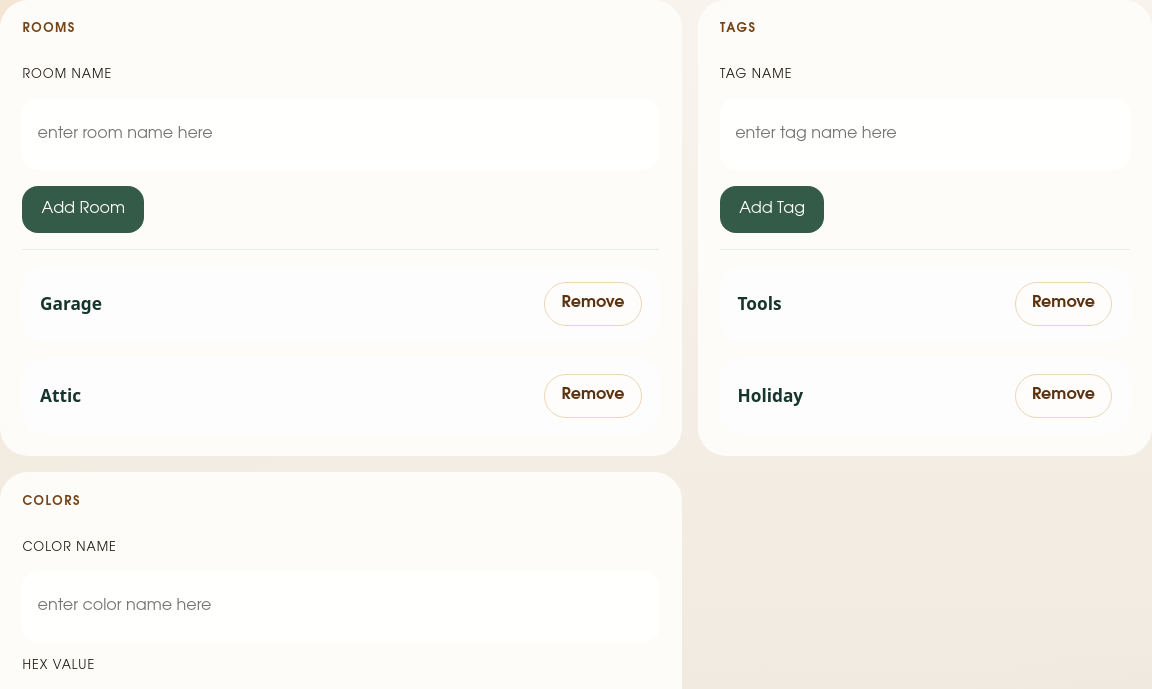
Test: rooms management route › removes a room from the list
Check: the text "Garage" is shown, box [40,292,102,315]
Click the button "Remove" in the row of "Garage" at (593,304), box [544,282,642,326]
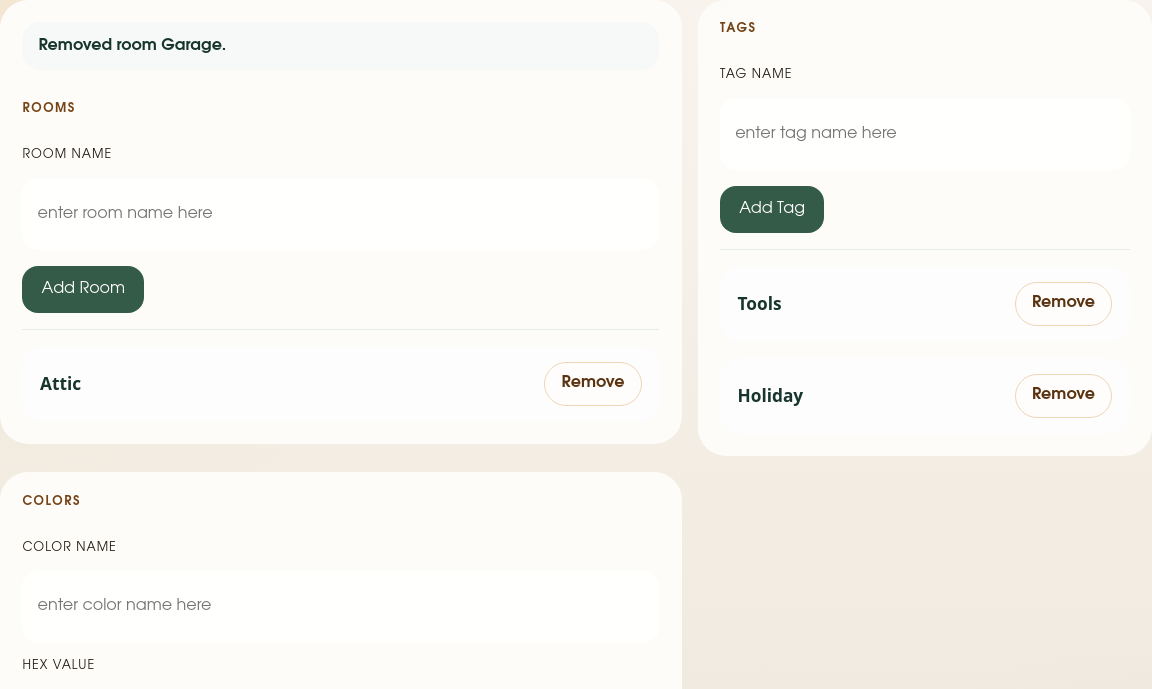
Check: the text "Removed room Garage." is shown, box [22,22,659,70]
